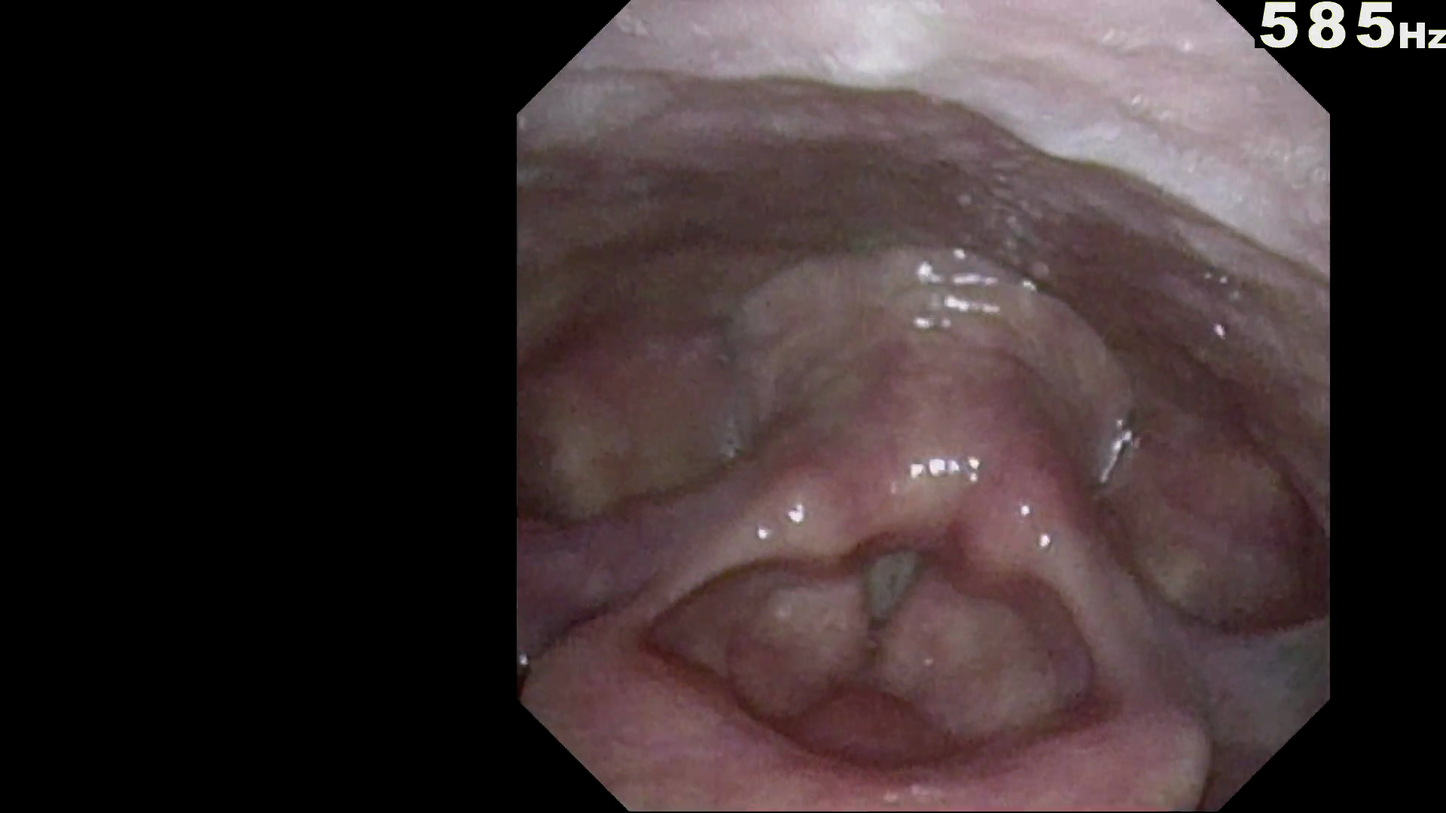epiglottis: (602, 556, 1215, 789)
trachea: (841, 502, 958, 638)
